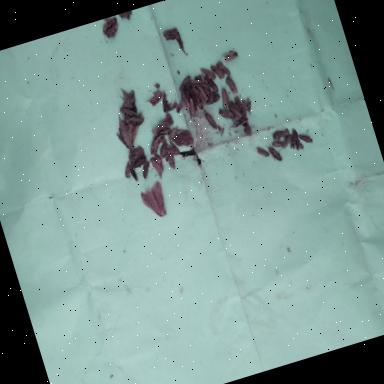abw: (136, 180, 170, 222)
pbw: (98, 14, 121, 38), (264, 138, 284, 165), (118, 123, 136, 152), (148, 156, 165, 182), (144, 136, 164, 158), (208, 59, 226, 81), (118, 102, 138, 120), (220, 48, 240, 66), (173, 31, 185, 58), (146, 90, 165, 107), (176, 76, 194, 93), (216, 106, 235, 122), (224, 76, 238, 97), (199, 65, 216, 82), (104, 22, 122, 38), (156, 114, 174, 130), (230, 116, 249, 131), (204, 75, 219, 94), (156, 140, 171, 159), (216, 58, 230, 78), (204, 112, 218, 132), (218, 87, 231, 108), (185, 98, 198, 119), (297, 131, 314, 147), (255, 144, 272, 160), (138, 160, 152, 179), (126, 150, 138, 172), (177, 90, 190, 110), (196, 83, 209, 103), (164, 142, 180, 158), (129, 114, 147, 128), (270, 128, 290, 140), (228, 103, 242, 120), (193, 94, 206, 112), (280, 133, 294, 149), (162, 28, 178, 42), (150, 122, 164, 136), (156, 126, 172, 138), (122, 163, 134, 178), (292, 138, 304, 152), (166, 154, 176, 170), (211, 93, 221, 103), (246, 99, 253, 109)
